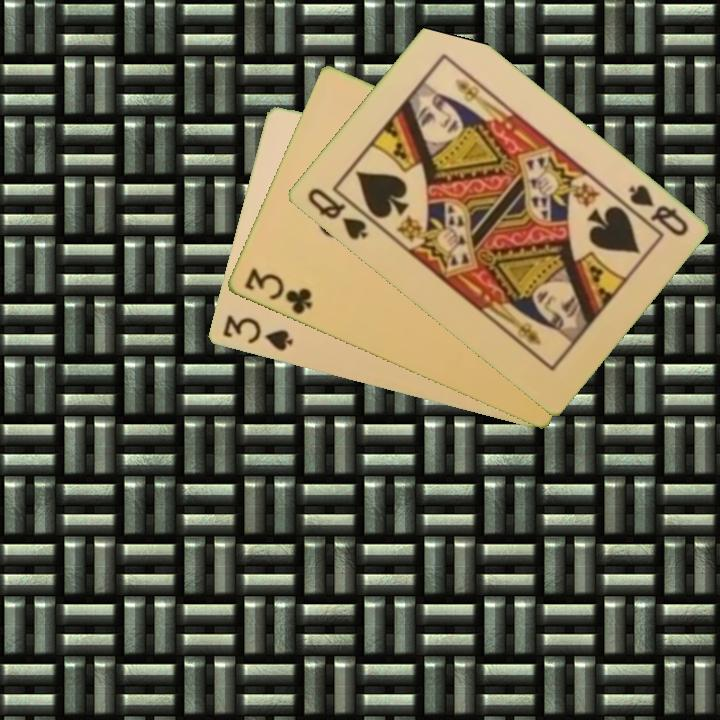3c: (240, 264, 315, 318)
3s: (218, 312, 296, 354)
Qs: (616, 181, 691, 239), (303, 184, 370, 243)
